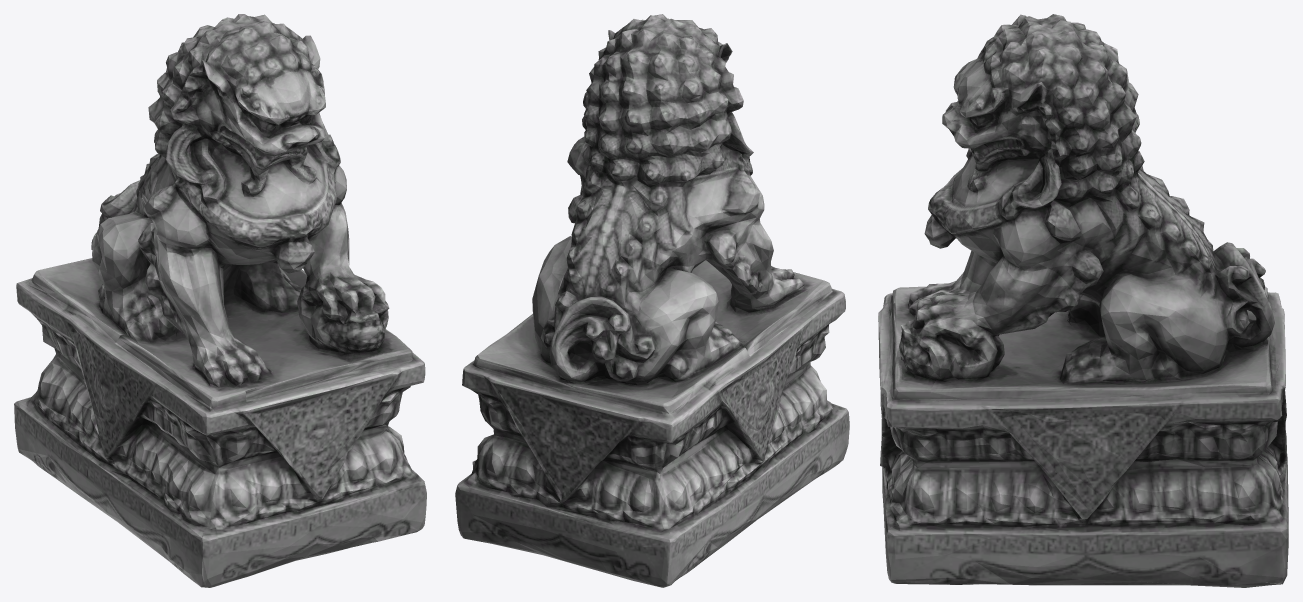
Rendered from LionStatue.fbx.
3 views of the same model, side by side, from view 1: azimuth 30°, elevation 25°; view 2: azimuth 150°, elevation 25°; view 3: azimuth 270°, elevation 25° (orthographic). The views are drawn at different scales.
Visible parts, largest first — view 1: 030.mo; view 2: 030.mo; view 3: 030.mo.
Part boxes in pixels (x1,y1,x2,y2): 030.mo: (14,14,426,587); 030.mo: (455,14,849,587); 030.mo: (878,14,1288,587).
Bounding box in the file's own units: 455 × 915 × 659.
Materials: 1 (1 with a texture image).
